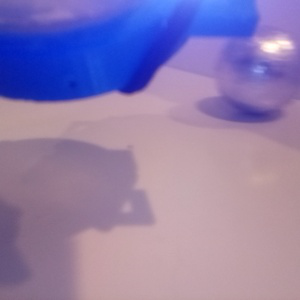alive_ball: (216, 26, 300, 115)
